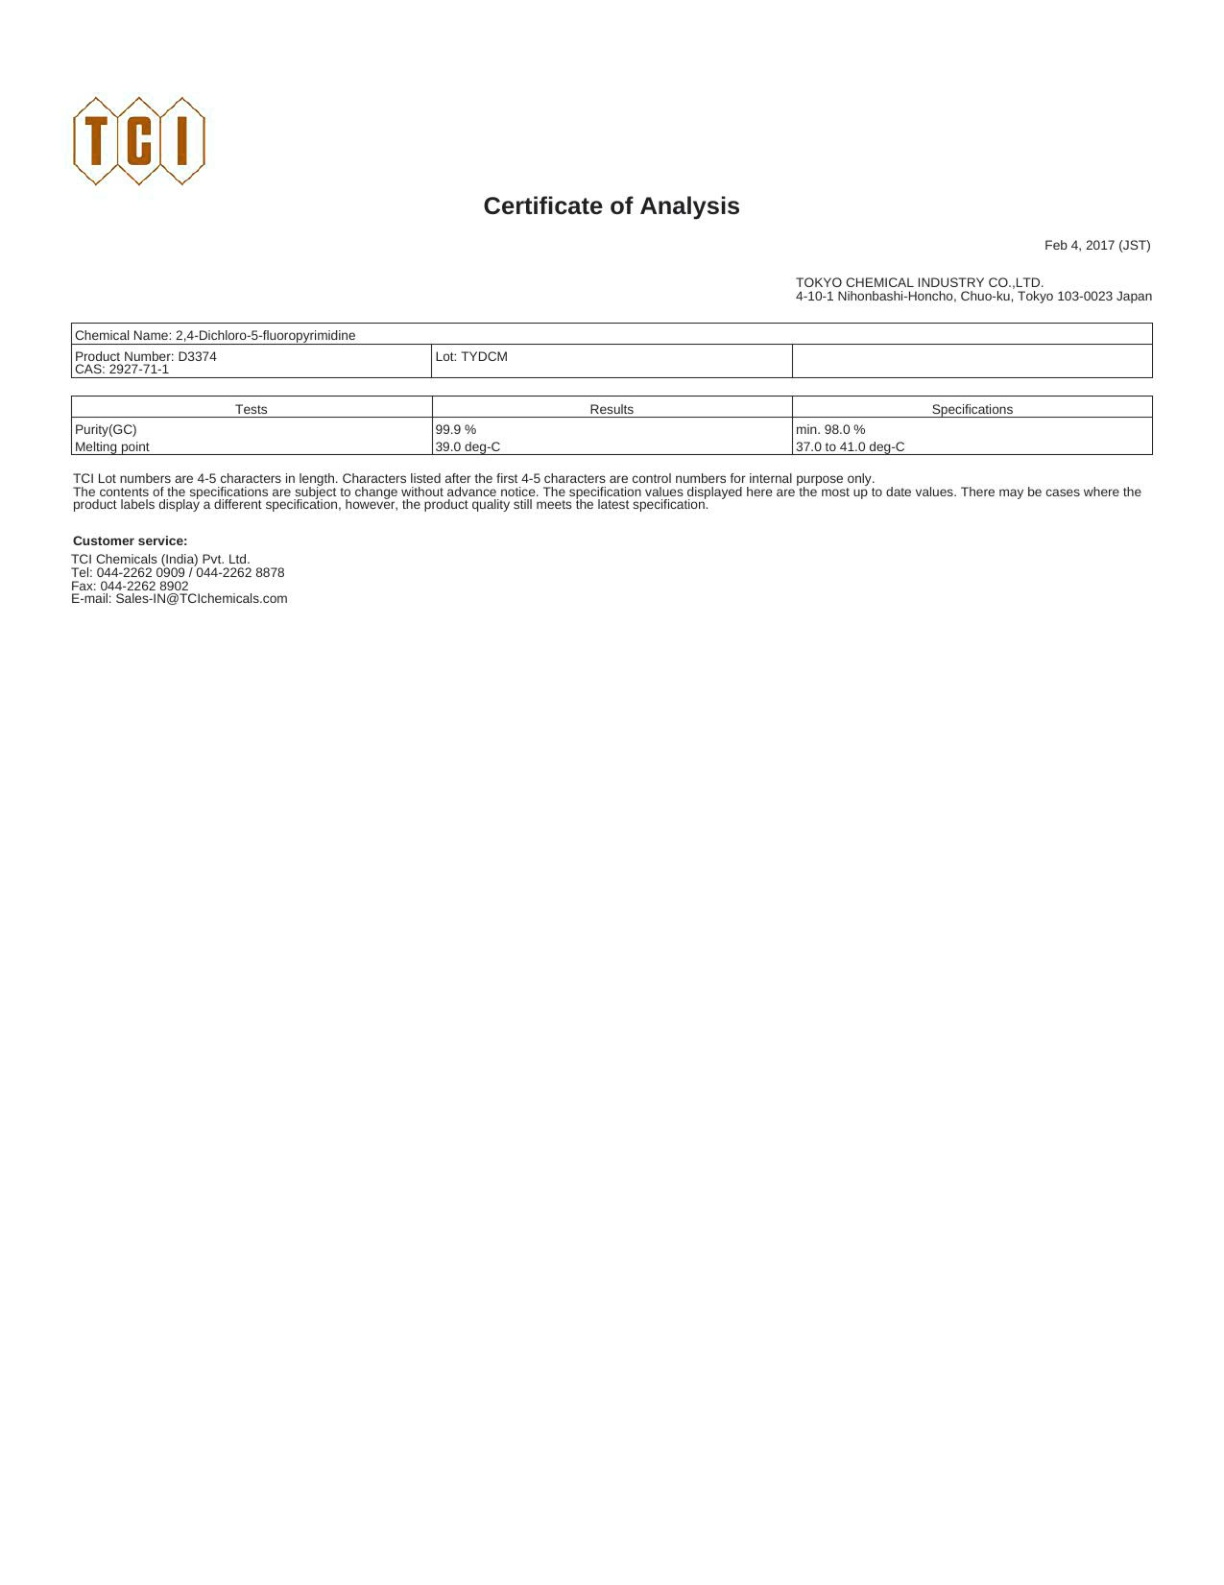full_lined: (71, 395, 1153, 455)
merged_cells: (71, 321, 1155, 379)
